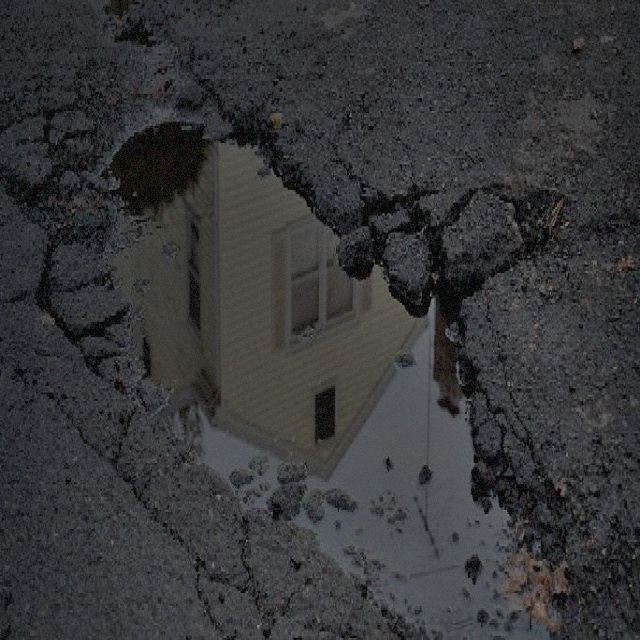pothole: (28, 83, 567, 638)
